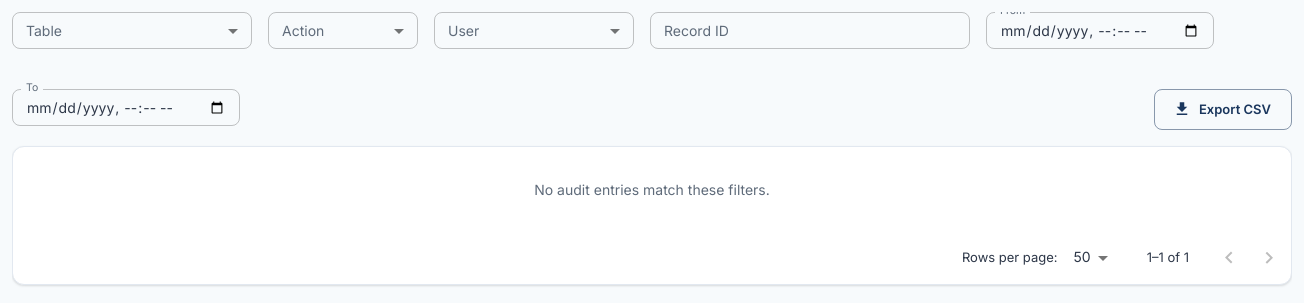
it: AuditLogTab › sends filters to the server and validates the record id like the server does
The width and height of the screenshot is (1304, 303).
expect the text "No audit entries match these filters." is shown: met, box [534, 181, 770, 198]
// S2: the Table filter lists the audited tables by name instead of needing the exact table name.
Click the dropdown named "Table" next to "Table" at (132, 31), box [12, 12, 252, 49]
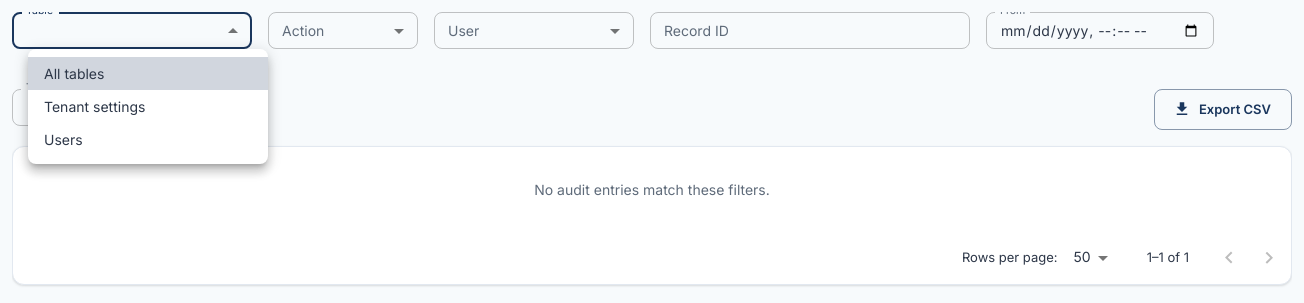
Click the option "Tenant settings" at (95, 106), box [44, 98, 145, 115]
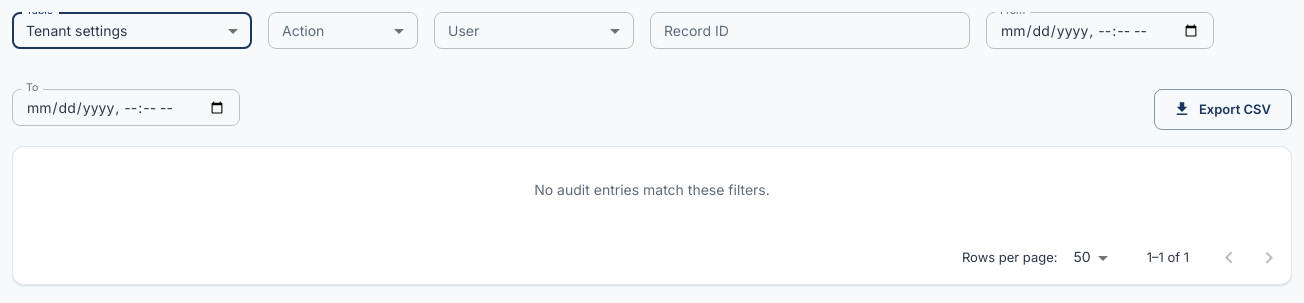
Click the dropdown named "Action" next to "Action" at (343, 31), box [268, 12, 418, 49]
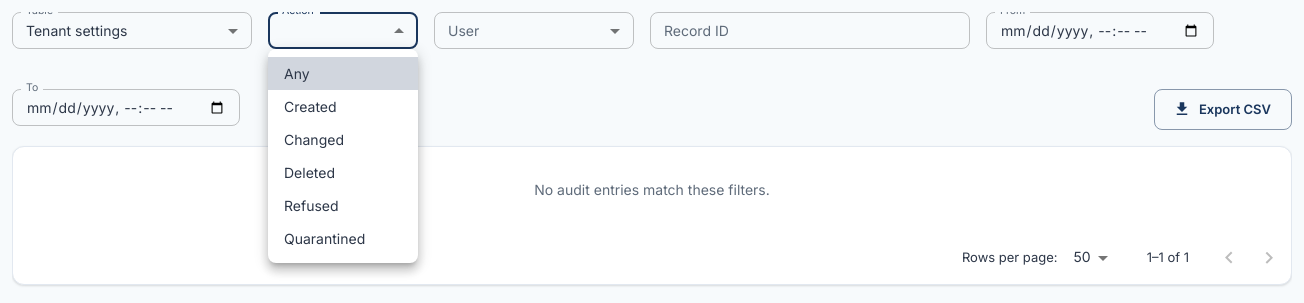
Click the option "Refused" at (311, 206), box [284, 197, 339, 214]
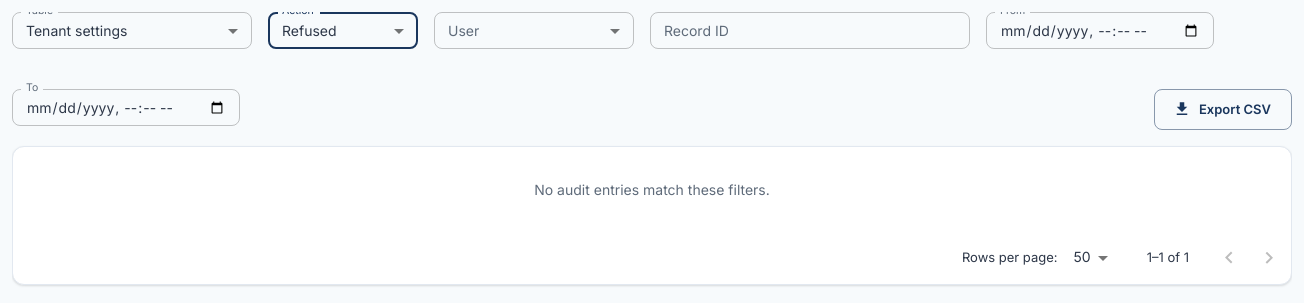
Type "not-a-uuid" into the field labelled "Record ID" at (810, 31), box [650, 12, 970, 49]
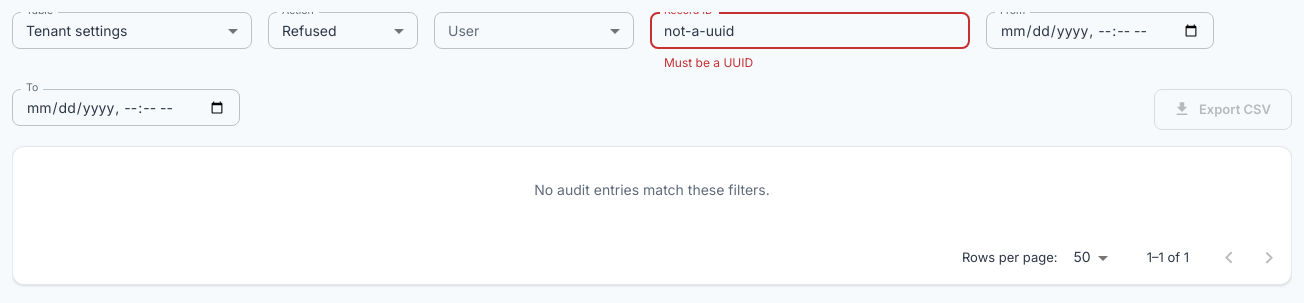
expect the text "Must be a UUID" is shown: met, box [664, 55, 753, 70]
